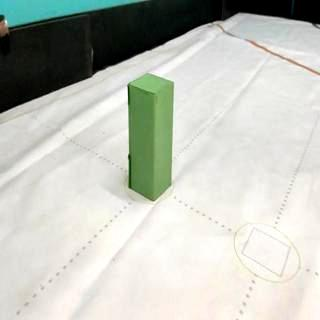greenbox: (127, 74, 175, 198)
